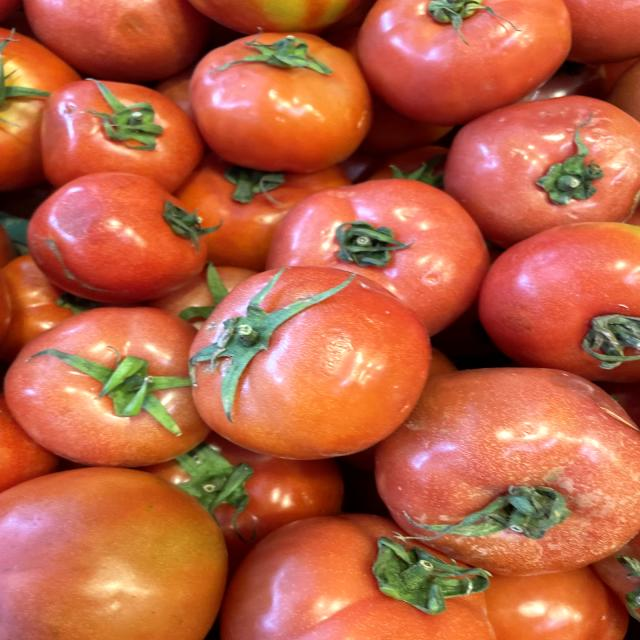tomato: (384, 358, 640, 580), (175, 265, 437, 464), (0, 298, 216, 461), (179, 18, 389, 171), (437, 86, 640, 240), (17, 165, 219, 303)
